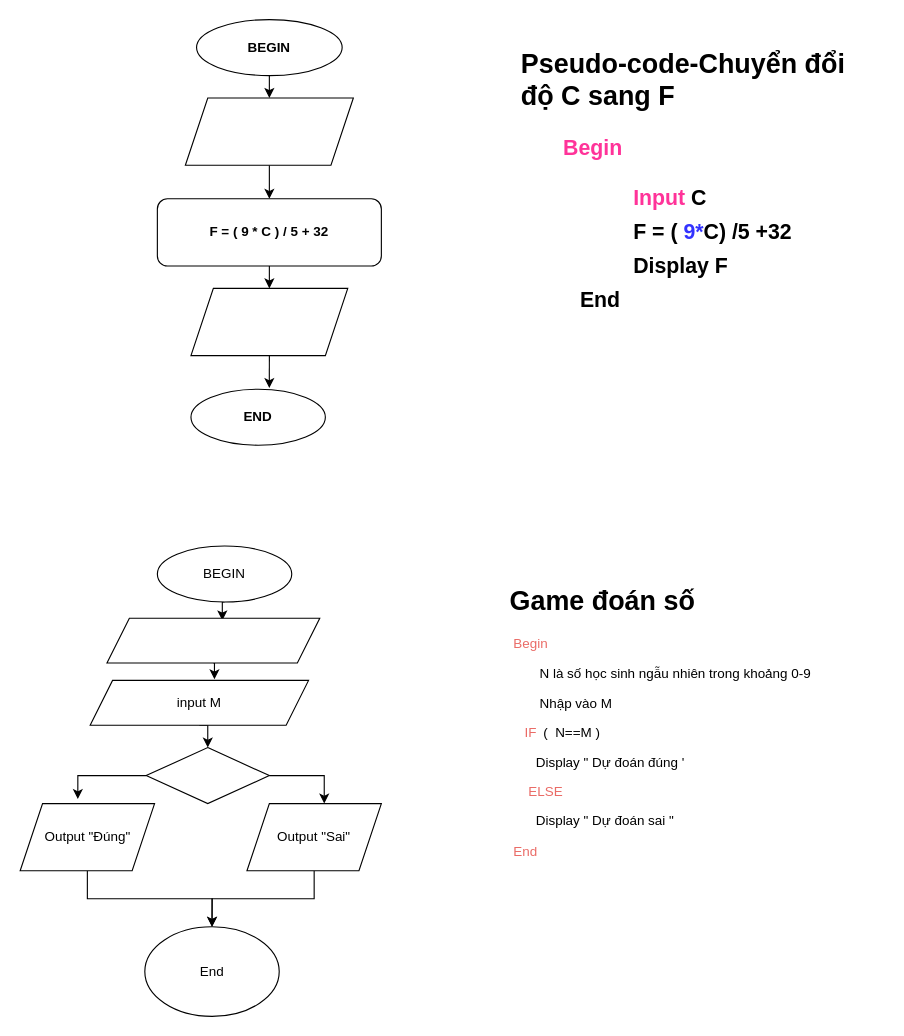
This 904x1036 diagram has some shape labels left out. Here are the shapes that lost their labels. From the top down, the box of each, then its label:
(184, 97, 353, 165): INPUT C
(190, 287, 348, 356): Display F
(106, 617, 320, 663): Input N ngẫu nhiên từ 0-9
(145, 746, 269, 804): N==M
